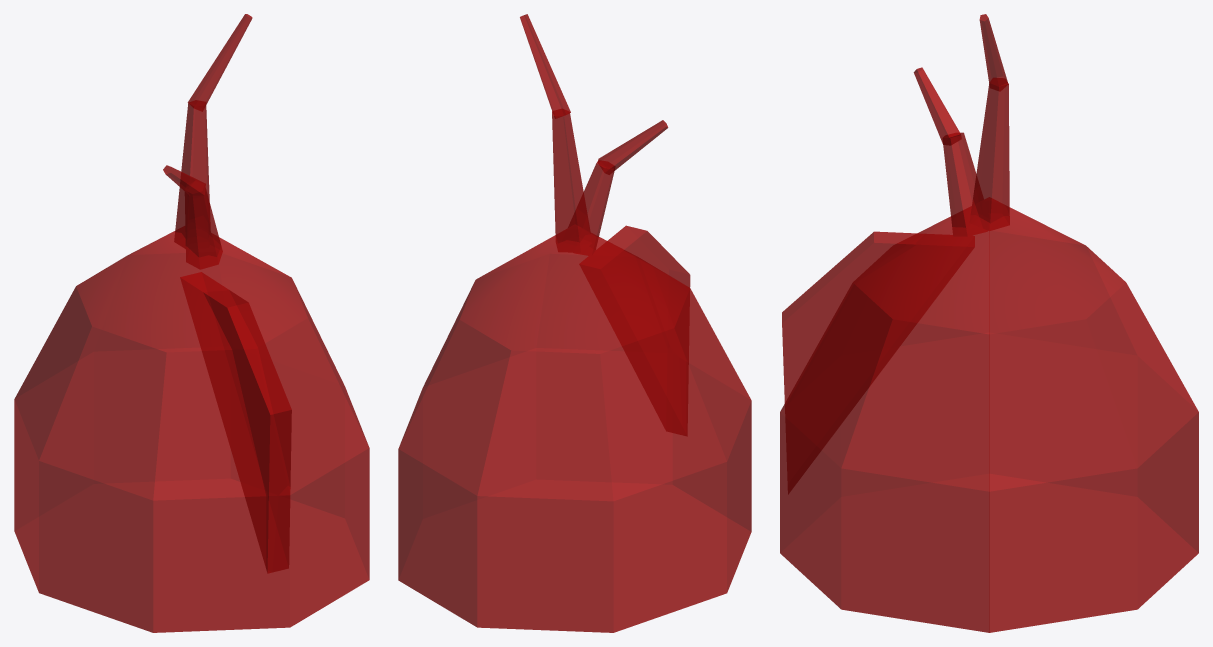
The model's file is SM_Env_Tree_Mangrove_03_Collision.fbx.
3 renders of one model, left to right at view 1: azimuth 30°, elevation 25°; view 2: azimuth 150°, elevation 25°; view 3: azimuth 270°, elevation 25°, orthographic. The views are drawn at different scales.
Visible parts, largest first — view 1: SM_Env_Tree_Mangrove_03_Collision; view 2: SM_Env_Tree_Mangrove_03_Collision; view 3: SM_Env_Tree_Mangrove_03_Collision.
Boxes of the visible parts, x1=… form: SM_Env_Tree_Mangrove_03_Collision: x1=14, y1=14, x2=369, y2=632; SM_Env_Tree_Mangrove_03_Collision: x1=398, y1=14, x2=751, y2=632; SM_Env_Tree_Mangrove_03_Collision: x1=780, y1=14, x2=1198, y2=632.
Bounding box in the file's own units: 229 × 379 × 254.
